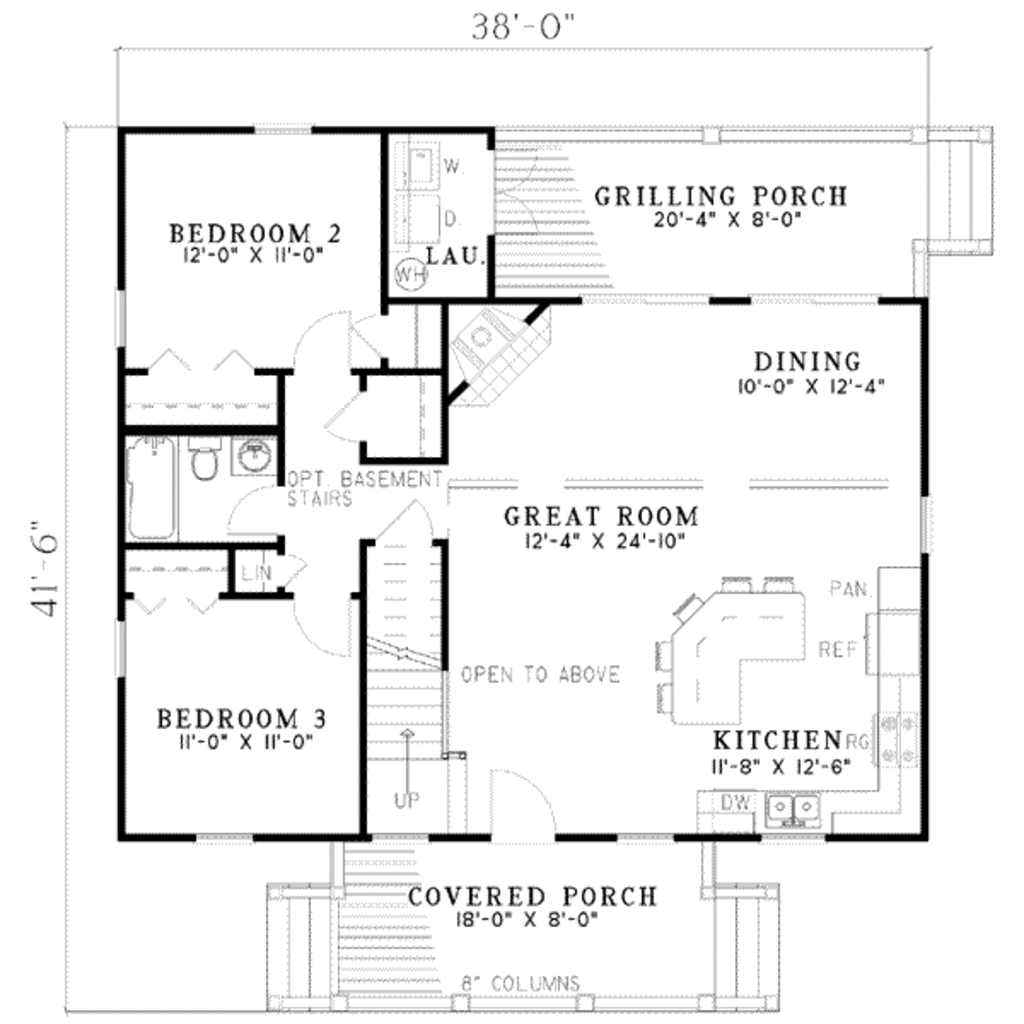door: (476, 760, 569, 846), (482, 139, 546, 232), (283, 593, 357, 665), (284, 304, 352, 376), (323, 372, 381, 453), (373, 485, 439, 551), (223, 474, 286, 543), (358, 304, 392, 366)
kitchen_bar: (614, 555, 815, 742)
large_sink: (175, 433, 235, 494)
small_sink: (229, 435, 279, 473)
stairs: (365, 538, 456, 850)
tub: (124, 433, 173, 542)
twin_sink: (750, 784, 825, 841)
window: (104, 619, 142, 676), (105, 291, 139, 352), (187, 826, 261, 851), (253, 119, 319, 140)
